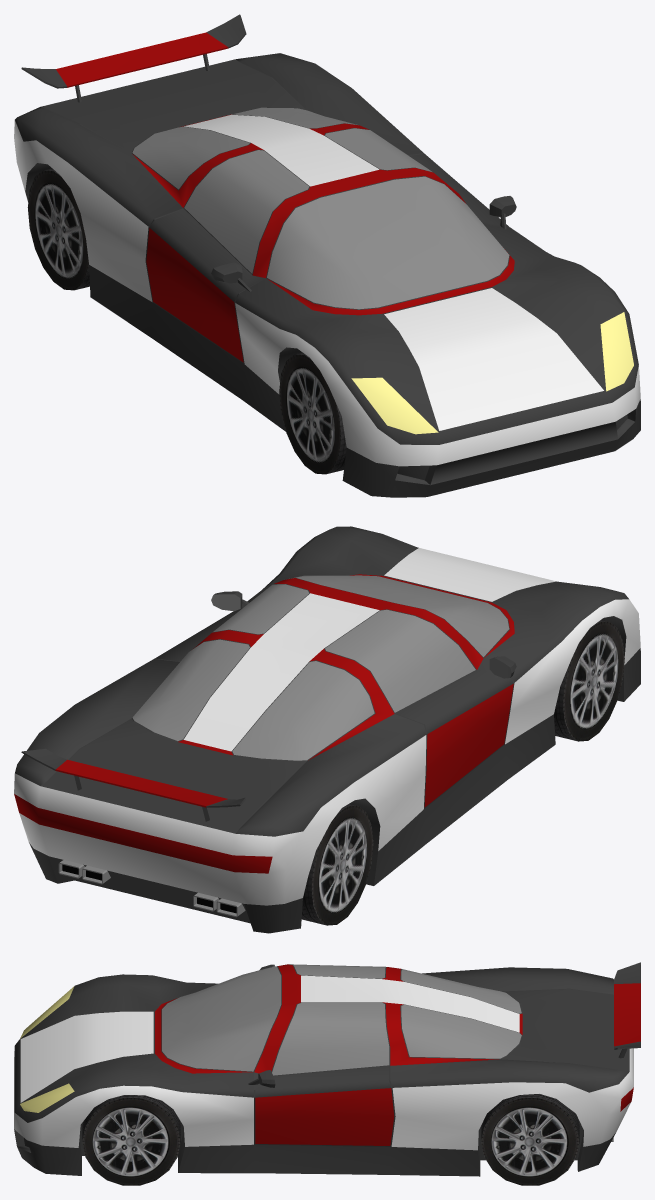
The model's file is Car 01.FBX.
3 renders of one model, top to bottom at view 1: azimuth 30°, elevation 25°; view 2: azimuth 150°, elevation 25°; view 3: azimuth 270°, elevation 25°, orthographic. The views are drawn at different scales.
Visible parts, largest first — view 1: Car 01; view 2: Car 01; view 3: Car 01.
Part boxes in pixels (left/top/right/bottom): Car 01: left=14, top=14, right=640, bottom=497; Car 01: left=14, top=526, right=640, bottom=933; Car 01: left=14, top=962, right=640, bottom=1185.
Size of the model in its own units: 2.14 by 1.22 by 4.88.
